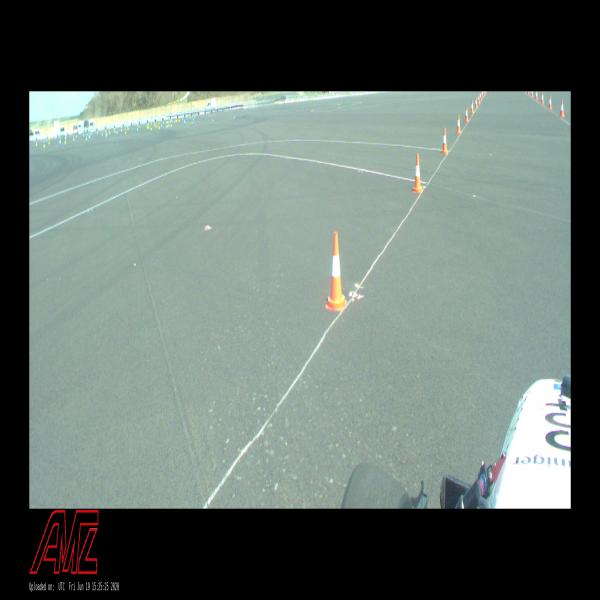blue_cone: (60, 140, 61, 146)
orange_cone: (326, 232, 347, 311), (413, 154, 422, 192), (442, 128, 448, 153), (560, 100, 565, 117), (457, 114, 461, 134), (465, 106, 469, 122), (549, 95, 552, 110), (471, 100, 474, 113), (475, 97, 478, 108), (542, 92, 544, 104), (478, 94, 480, 104), (480, 91, 482, 100), (536, 91, 538, 100), (482, 91, 484, 97), (531, 91, 533, 97), (527, 91, 530, 95)
yellow_cone: (125, 127, 127, 134), (44, 141, 46, 147)
